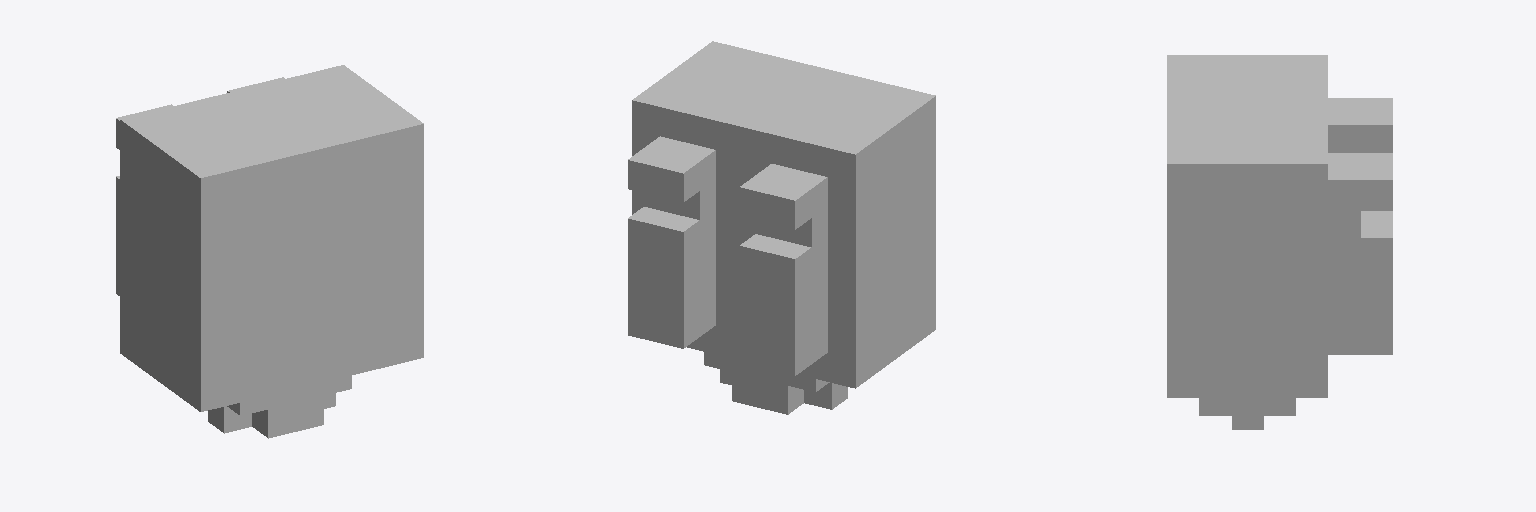
The model's file is torso.obj.
3 renders of one model, left to right at view 1: azimuth 30°, elevation 25°; view 2: azimuth 150°, elevation 25°; view 3: azimuth 270°, elevation 25°, orthographic.
Parts seen in each view (by area): view 1: Default; view 2: Default; view 3: Default.
Part boxes in pixels (left/top/right/bottom): Default: left=116, top=65, right=423, bottom=438; Default: left=628, top=41, right=935, bottom=414; Default: left=1167, top=55, right=1392, bottom=429.
Bounding box in the file's own units: 0.8 × 1 × 0.7.